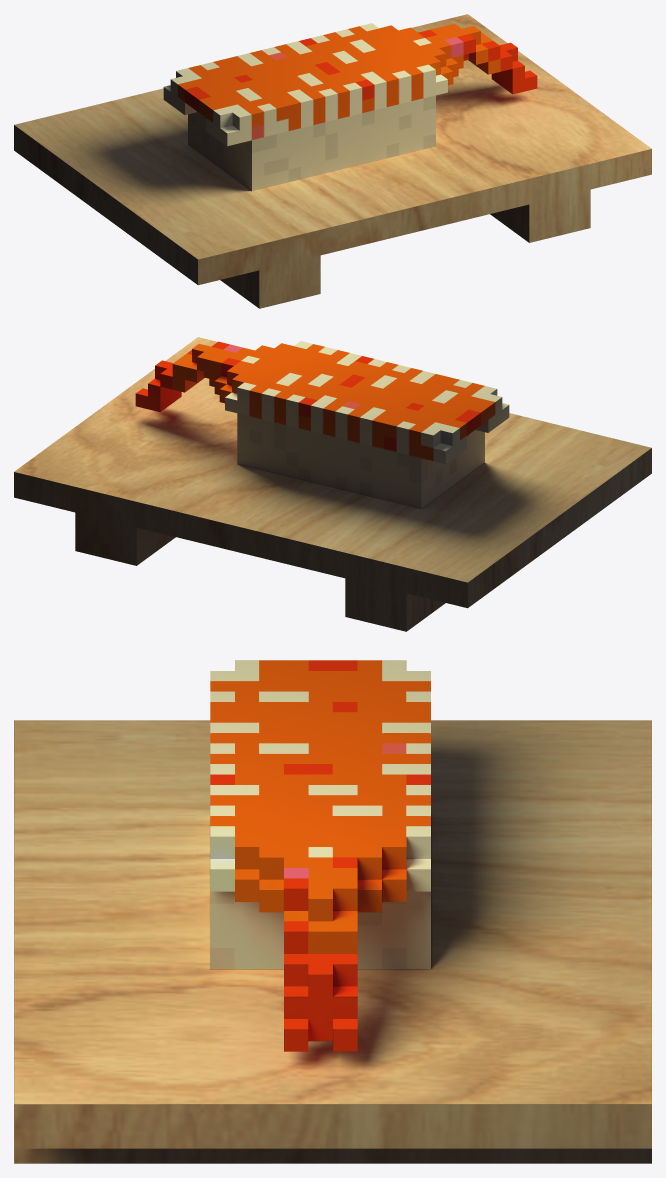
Rendered from sushi_ebi.glb.
3 views of the same model, one above another, from view 1: azimuth 30°, elevation 25°; view 2: azimuth 150°, elevation 25°; view 3: azimuth 270°, elevation 25° (orthographic). The views are drawn at different scales.
Visible parts, largest first — view 1: geta.vox, sushi_ebi.vox.003; view 2: geta.vox, sushi_ebi.vox.003; view 3: geta.vox, sushi_ebi.vox.003.
Part boxes in pixels (x1,y1,x2,y2): geta.vox: (14,14,651,308); sushi_ebi.vox.003: (163,23,537,190); geta.vox: (14,337,651,631); sushi_ebi.vox.003: (135,341,509,508); geta.vox: (14,720,651,1163); sushi_ebi.vox.003: (210,660,430,1051).
Bounding box in the file's own units: 3.7 × 1.1 × 2.6.
Materials: 2 (2 with a texture image).
